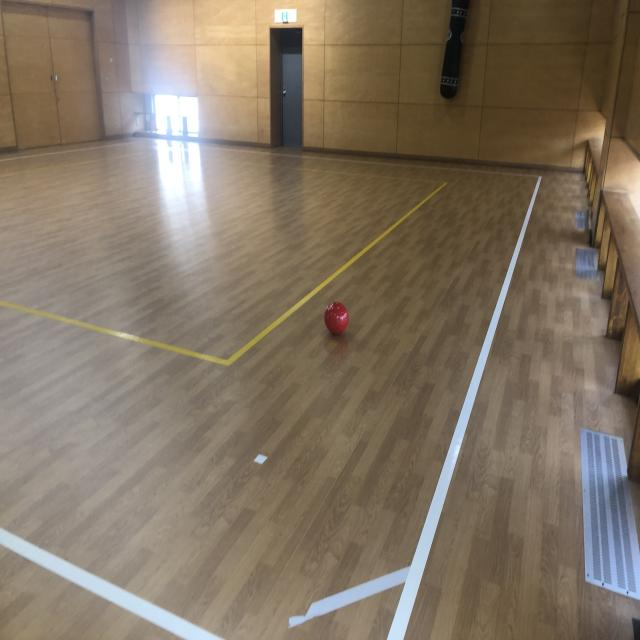red_ball: (324, 301, 349, 335)
